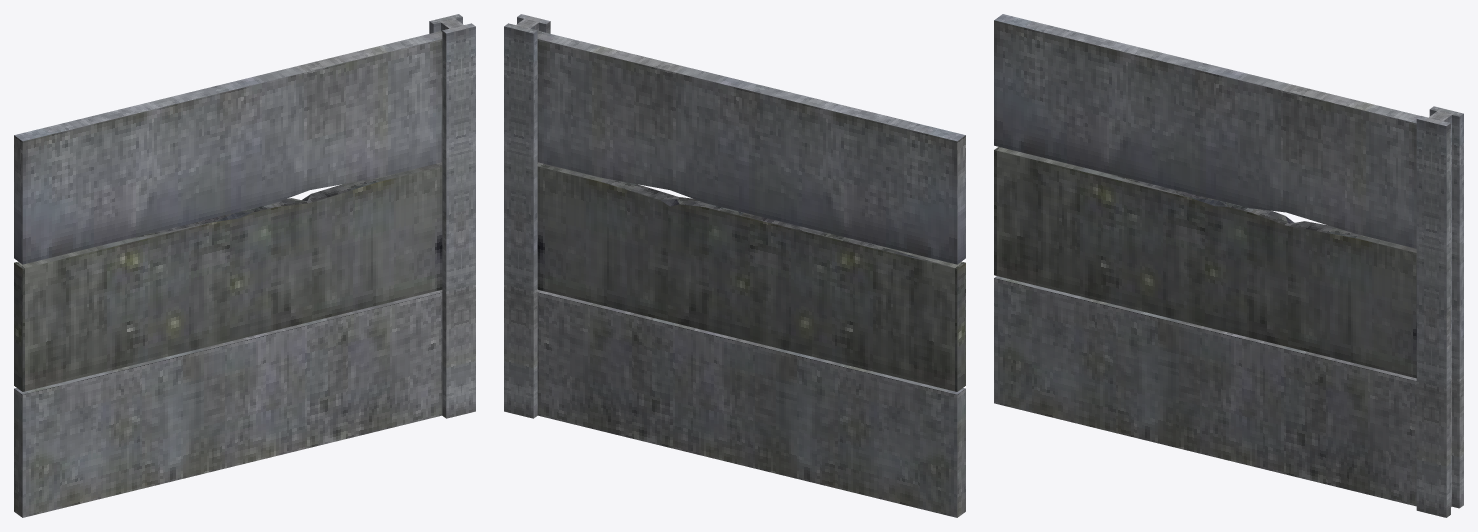
Rendered from lf_plackard_open.glb.
3 views of the same model, side by side, from view 1: azimuth 30°, elevation 25°; view 2: azimuth 150°, elevation 25°; view 3: azimuth 330°, elevation 25° (orthographic).
Visible parts, largest first — view 1: plackard_open; view 2: plackard_open; view 3: plackard_open.
Boxes of the visible parts, left/top/right/bottom form: plackard_open: left=14, top=14, right=475, bottom=517; plackard_open: left=504, top=14, right=965, bottom=517; plackard_open: left=994, top=14, right=1463, bottom=517.
Bounding box in the file's own units: 3.05 × 2.5 × 0.1999.
1 material, 1 textured.
